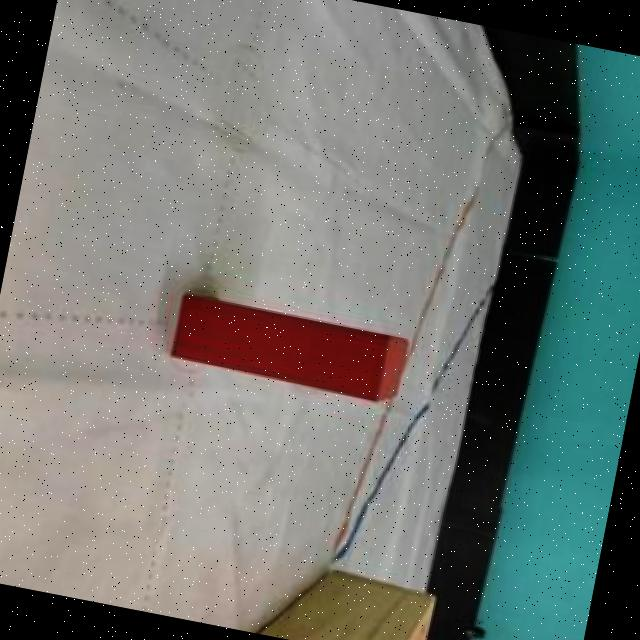redbox: (168, 294, 412, 407)
